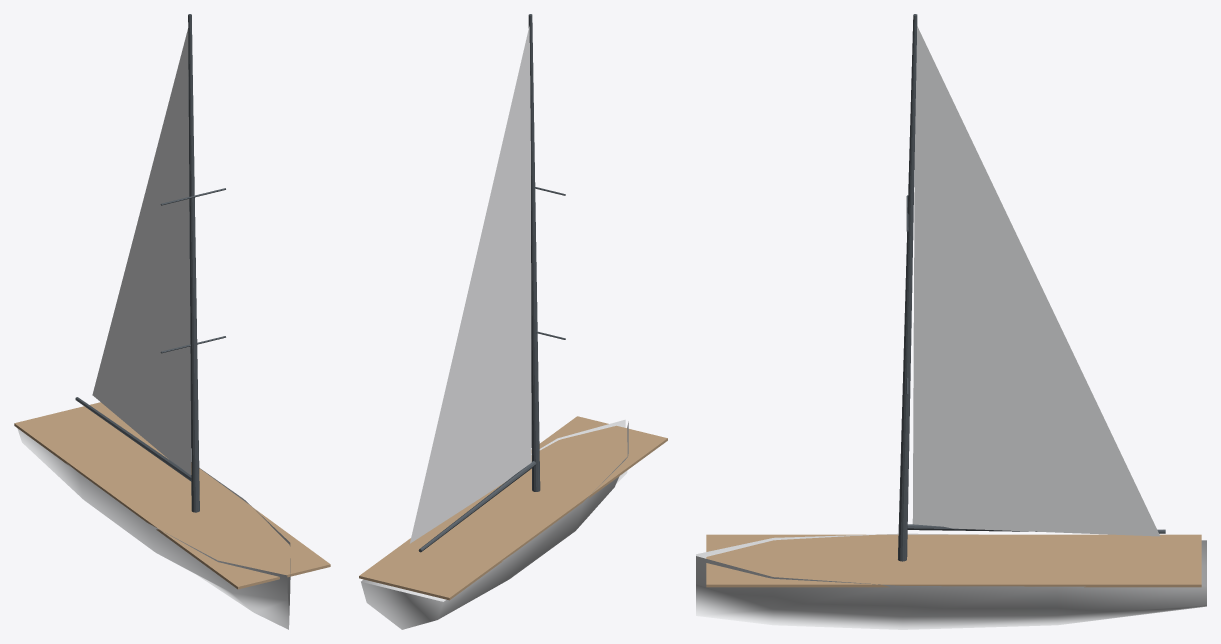
Rendered from sailing_yacht.glb.
The picture shows the model from 3 angles, left to right: view 1: azimuth 30°, elevation 25°; view 2: azimuth 150°, elevation 25°; view 3: azimuth 270°, elevation 25°; orthographic projection. The views are drawn at different scales.
Parts seen in each view (by area): view 1: Mainsail, Sloop_Deck, Sloop_Hull, Carbon_Rigging; view 2: Mainsail, Sloop_Deck, Sloop_Hull, Carbon_Rigging; view 3: Mainsail, Sloop_Deck, Sloop_Hull, Carbon_Rigging.
Boxes of the visible parts, x1,y1,x2,y2 form: Mainsail: (92,28,190,475); Sloop_Deck: (14,402,330,589); Sloop_Hull: (17,428,290,629); Carbon_Rigging: (75,14,225,512); Mainsail: (410,26,531,543); Sloop_Deck: (359,416,667,600); Sloop_Hull: (361,419,628,629); Carbon_Rigging: (418,14,565,552); Mainsail: (912,26,1160,536); Sloop_Deck: (706,534,1201,587); Sloop_Hull: (696,533,1206,629); Carbon_Rigging: (898,14,1165,561).
Size of the model in its own units: 4.8 by 26.3 by 19.8.
